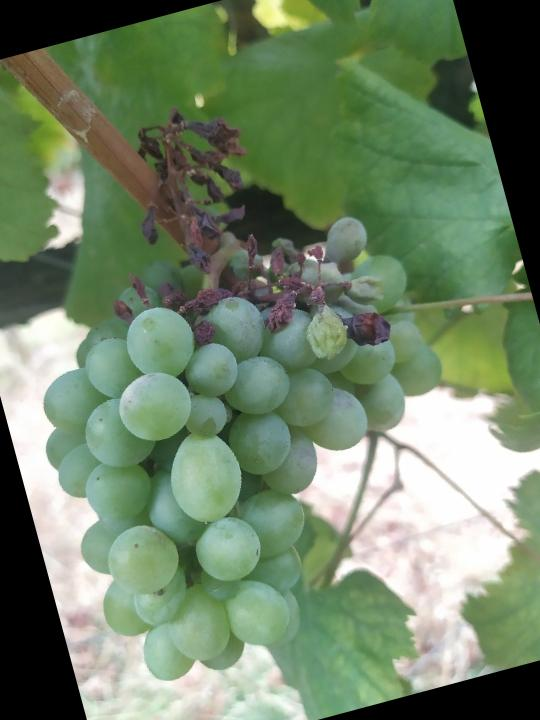grape: (0, 52, 505, 703)
